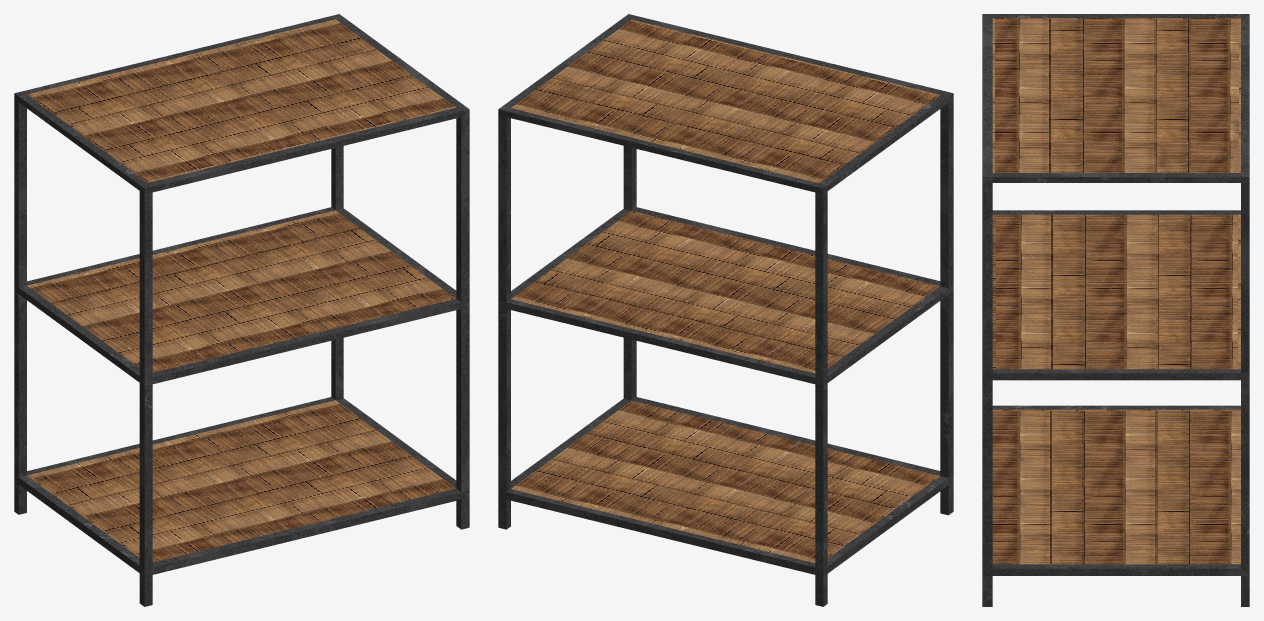
File: wide_rack.gltf
3 renders of one model, left to right at view 1: azimuth 30°, elevation 25°; view 2: azimuth 150°, elevation 25°; view 3: azimuth 270°, elevation 25°, orthographic. The views are drawn at different scales.
Parts seen in each view (by area): view 1: WideRack; view 2: WideRack; view 3: WideRack.
Part boxes in pixels (x1,y1,x2,y2): WideRack: (14, 14, 469, 606); WideRack: (498, 14, 953, 606); WideRack: (982, 14, 1249, 606).
Bounding box in the file's own units: 1.77 × 2.17 × 1.23.
2 materials, 2 textured.
